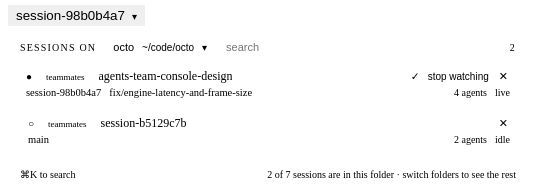
it: says so when the filter matches nothing
In the field with test id "team-search": (362, 47) [224,40,501,54], type "nonexistent-zzz"
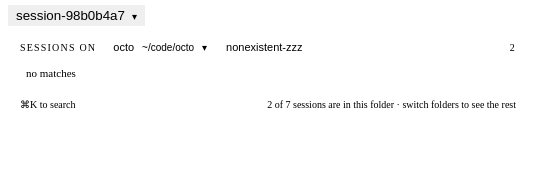
Expected: the text "no matches" is shown, [26,67,76,79]
